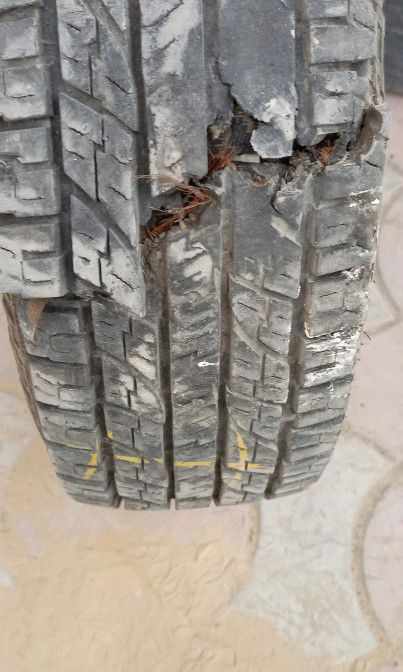bead_damage: (136, 75, 384, 300), (1, 285, 124, 324)
tr: (138, 77, 386, 302), (3, 287, 126, 326)
